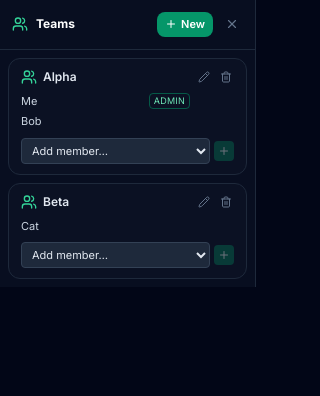
Test: Teams panel — super admin › shows the backend's reason when a change is refused
This screenshot has width=320, height=396.
Click the button titled "Delete team" next to "Beta": (226, 202) [218,194,234,210]
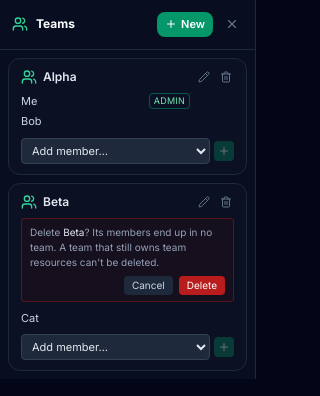
Click the button "Delete": (202, 285) [179,276,225,294]
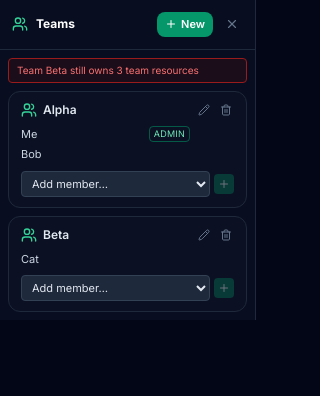
expect the message reads "Team Beta still owns 3 team resources": met, box [17,64,199,76]
